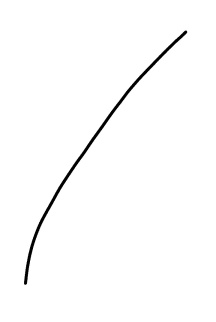Line: (21, 27, 190, 288)
